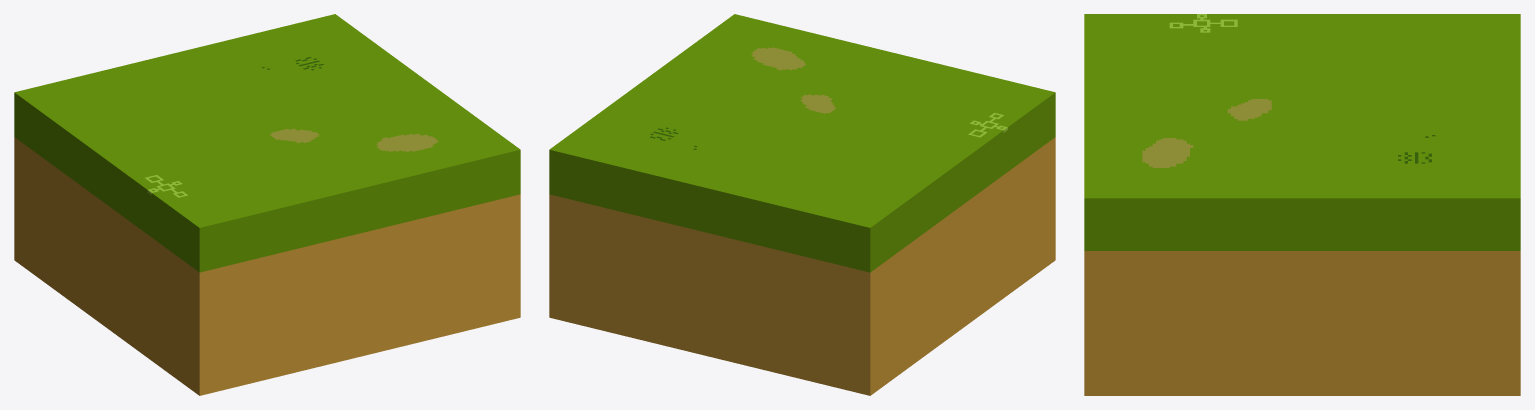
3 views of the same model, side by side, from view 1: azimuth 30°, elevation 25°; view 2: azimuth 150°, elevation 25°; view 3: azimuth 270°, elevation 25° (orthographic). The views are drawn at different scales.
Parts seen in each view (by area): view 1: 9M; view 2: 9M; view 3: 9M.
Boxes of the visible parts, box(x1,y1,x2,y2) form: 9M: box(14, 14, 520, 395); 9M: box(549, 14, 1055, 395); 9M: box(1084, 14, 1520, 395).
Bounding box in the file's own units: 12.8 × 6.4 × 12.8.
Materials: 1 (1 with a texture image).
